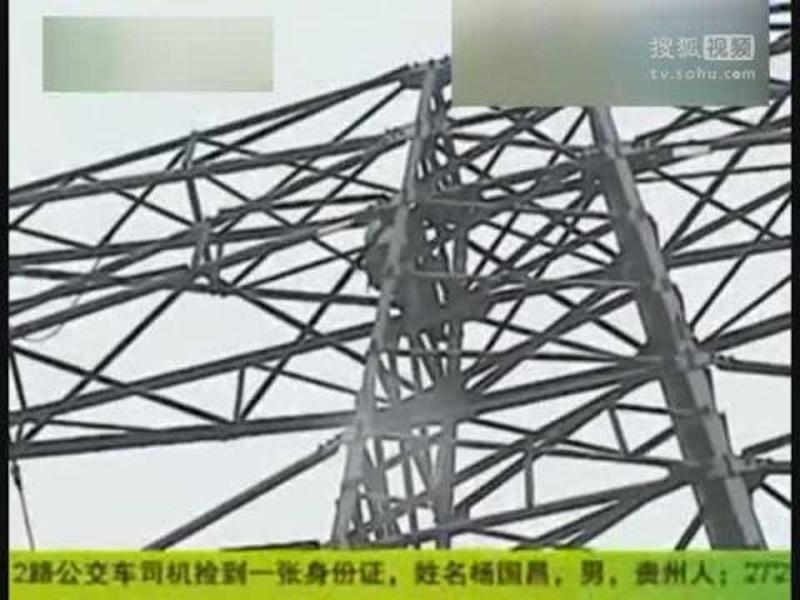power_tower: (25, 103, 790, 541)
